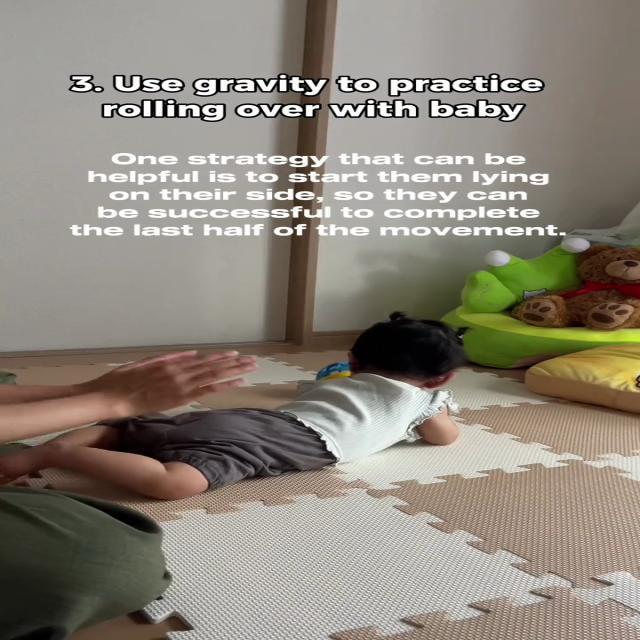baby: (0, 311, 476, 487)
